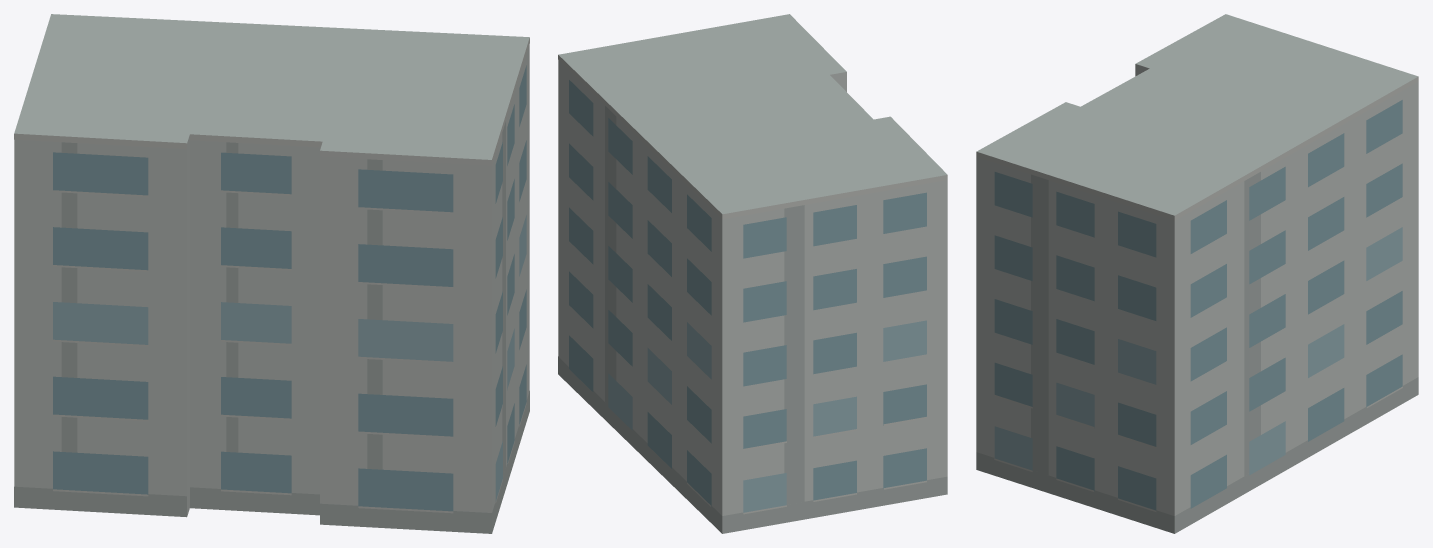
File: survey-upis-32940046.glb
3 views of the same model, side by side, from view 1: azimuth 30°, elevation 25°; view 2: azimuth 150°, elevation 25°; view 3: azimuth 270°, elevation 25° (orthographic). The views are drawn at different scales.
Visible parts, largest first — view 1: survey-upis-32940046.tmp; view 2: survey-upis-32940046.tmp; view 3: survey-upis-32940046.tmp.
Part boxes in pixels (<box>): survey-upis-32940046.tmp: <box>14,14,529,533</box>; survey-upis-32940046.tmp: <box>558,14,947,533</box>; survey-upis-32940046.tmp: <box>976,14,1418,533</box>.
Size of the model in its own units: 20.53 by 15.1 by 19.02.
